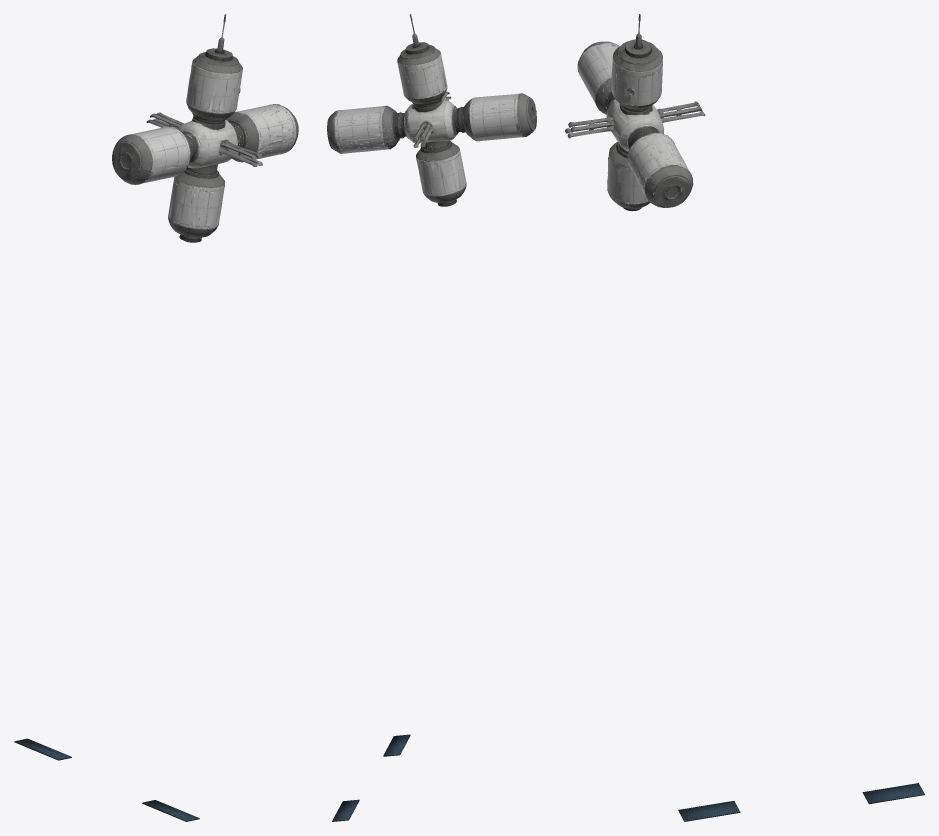
The model's file is space-station-web.glb.
3 views of the same model, side by side, from view 1: azimuth 30°, elevation 25°; view 2: azimuth 150°, elevation 25°; view 3: azimuth 270°, elevation 25° (orthographic). The views are drawn at different scales.
Parts seen in each view (by area): view 1: material; view 2: material; view 3: material, Plane.001, Plane.002.
Part boxes in pixels (x1,y1,x2,y2): material: (112, 14, 298, 242); material: (327, 14, 536, 206); material: (565, 14, 705, 211); Plane.001: (678, 801, 740, 821); Plane.002: (862, 783, 924, 804).
Size of the model in its own units: 0.8261 by 3.12 by 1.26.
3 materials, 2 textured.
